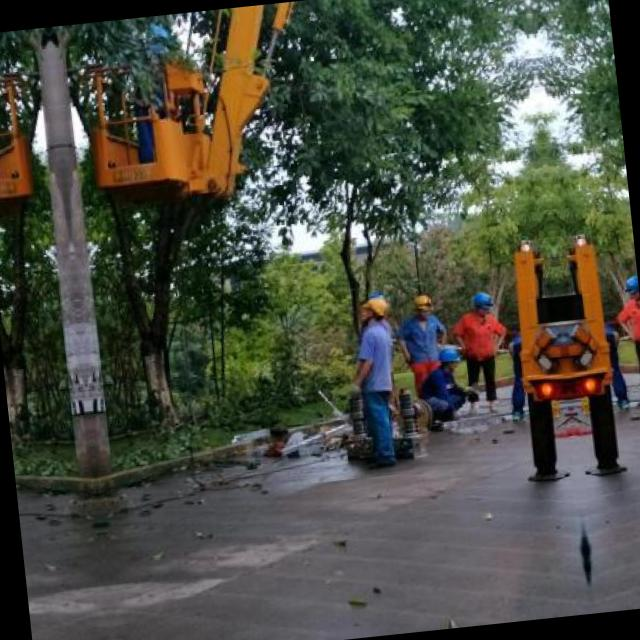helmet: (352, 292, 392, 328), (464, 286, 496, 324), (404, 292, 436, 324), (434, 342, 463, 377), (620, 270, 638, 308)
